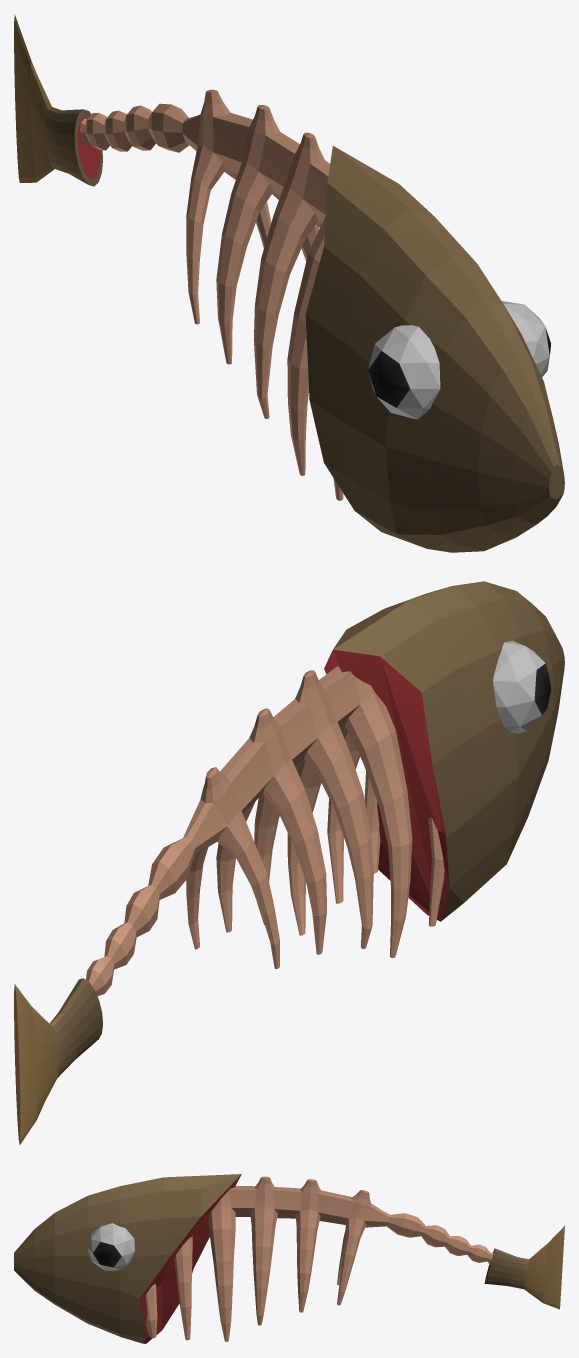
The model's file is zombie_fish.glb.
The picture shows the model from 3 angles, top to bottom: view 1: azimuth 30°, elevation 25°; view 2: azimuth 150°, elevation 25°; view 3: azimuth 270°, elevation 25°; orthographic projection. The views are drawn at different scales.
Parts seen in each view (by area): view 1: head.006, skeleton, tail.001, eye.shaded.042, eye.shaded.041; view 2: skeleton, head.006, tail.001, eye.shaded.042; view 3: head.006, skeleton, tail.001, eye.shaded.041.
Boxes of the visible parts, bbox=[...] form: head.006: bbox=[305, 146, 564, 552]; skeleton: bbox=[80, 89, 373, 521]; tail.001: bbox=[14, 14, 102, 186]; eye.shaded.042: bbox=[368, 325, 440, 419]; eye.shaded.041: bbox=[502, 301, 550, 377]; skeleton: bbox=[86, 666, 444, 996]; head.006: bbox=[324, 581, 564, 921]; tail.001: bbox=[14, 978, 102, 1145]; eye.shaded.042: bbox=[493, 641, 551, 733]; head.006: bbox=[14, 1174, 241, 1343]; skeleton: bbox=[145, 1176, 493, 1341]; tail.001: bbox=[484, 1226, 564, 1309]; eye.shaded.041: bbox=[87, 1223, 135, 1270].
Bounding box in the file's own units: 0.2389 × 0.4511 × 1.33.
3 materials, 3 textured.
